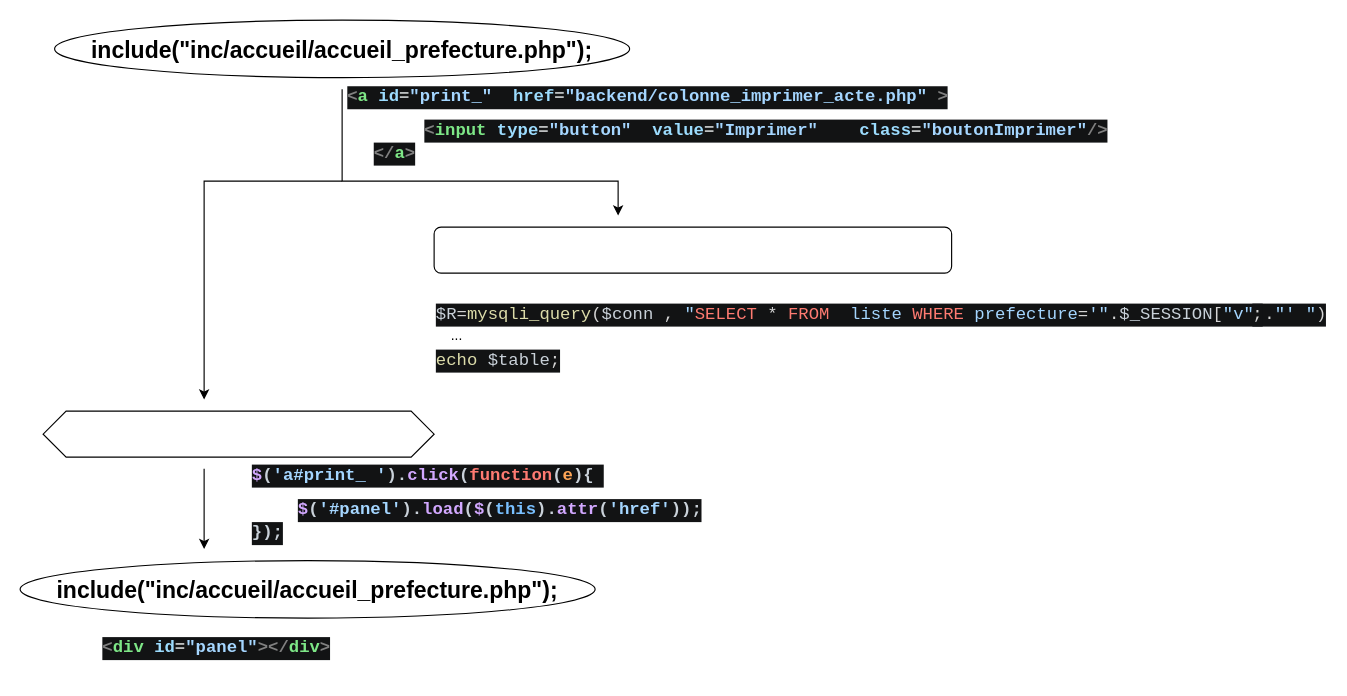
Some shapes in this 1347 by 696 pixel diagram are drawn without their labels. The centre of each missing label's shape, as x and y in pixels:
"accueil_commandes_panel.js" belongs at pixel 238 433.
"backend/colonne_imprimer_acte.php" belongs at pixel 692 249.
